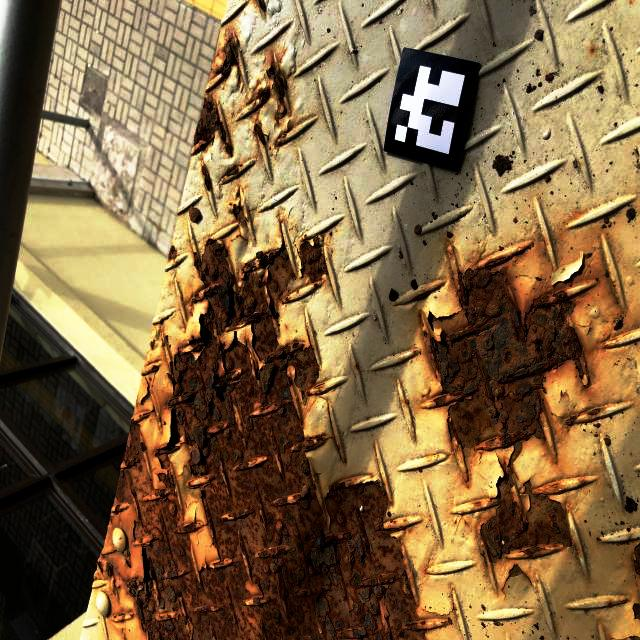Corrosion: (96, 214, 458, 640), (415, 175, 603, 492), (471, 452, 586, 573), (247, 46, 304, 162), (540, 359, 609, 448), (569, 277, 636, 354), (190, 92, 235, 174), (208, 20, 244, 95), (297, 231, 331, 288), (227, 184, 257, 248), (498, 563, 535, 602), (326, 400, 346, 468), (631, 538, 640, 586), (421, 548, 435, 578), (422, 450, 455, 461), (200, 165, 213, 191), (223, 164, 243, 179), (604, 597, 631, 608), (167, 243, 180, 262), (630, 599, 640, 623), (250, 0, 266, 13), (612, 634, 640, 640), (289, 286, 306, 295), (463, 517, 472, 529), (590, 46, 596, 53)
